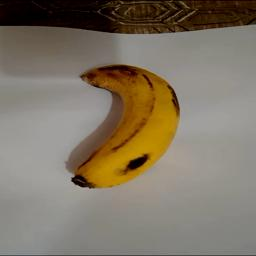Banana Unripe: (64, 66, 180, 190)
